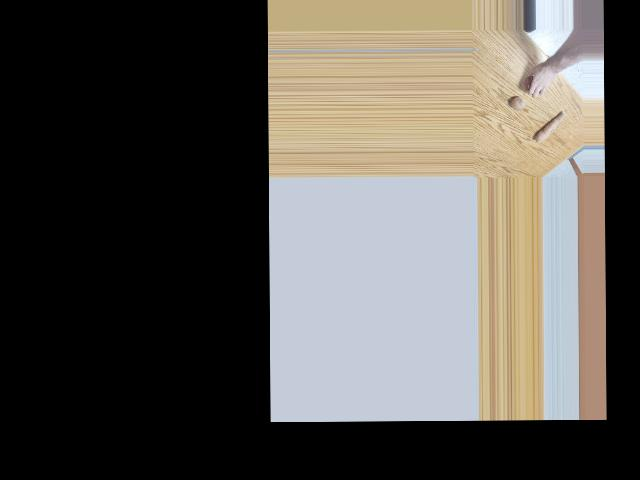onion: (525, 74, 540, 90)
